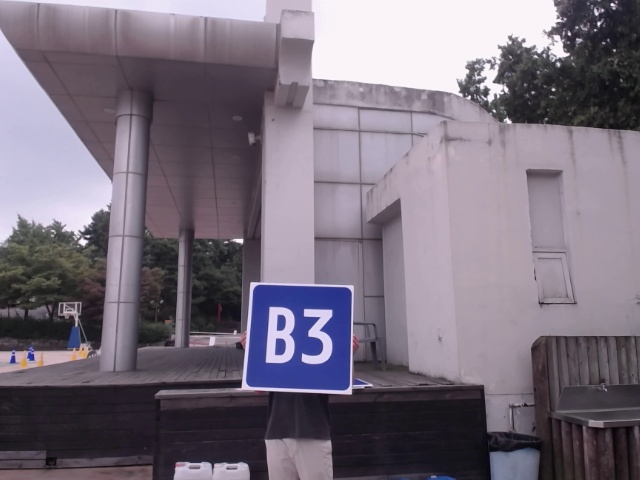delivery_b3: (242, 287, 353, 392)
